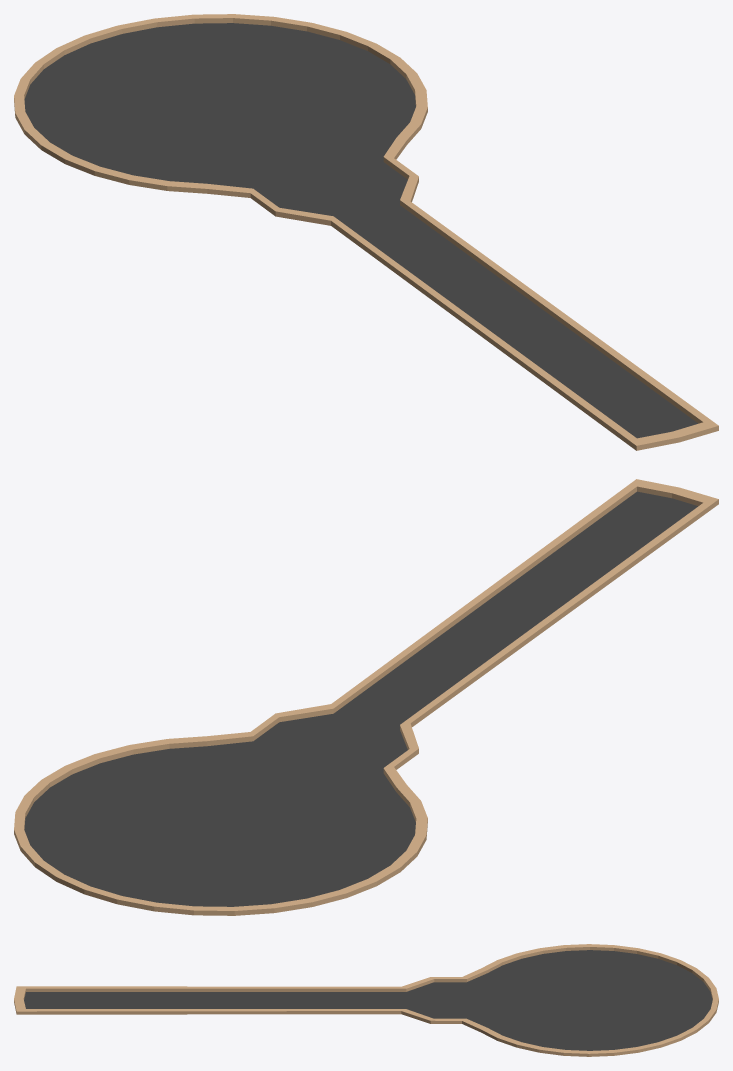
Rendered from culdesac.glb.
3 views of the same model, one above another, from view 1: azimuth 30°, elevation 25°; view 2: azimuth 150°, elevation 25°; view 3: azimuth 270°, elevation 25° (orthographic). The views are drawn at different scales.
Visible parts, largest first — view 1: Circle; view 2: Circle; view 3: Circle.
Part boxes in pixels (box(x1,y1,x2,y2)): Circle: box(14, 14, 718, 450); Circle: box(14, 479, 718, 915); Circle: box(14, 944, 718, 1056).
Size of the model in its own units: 2.11 by 0.0291 by 5.73.
Materials: 1 (1 with a texture image).
